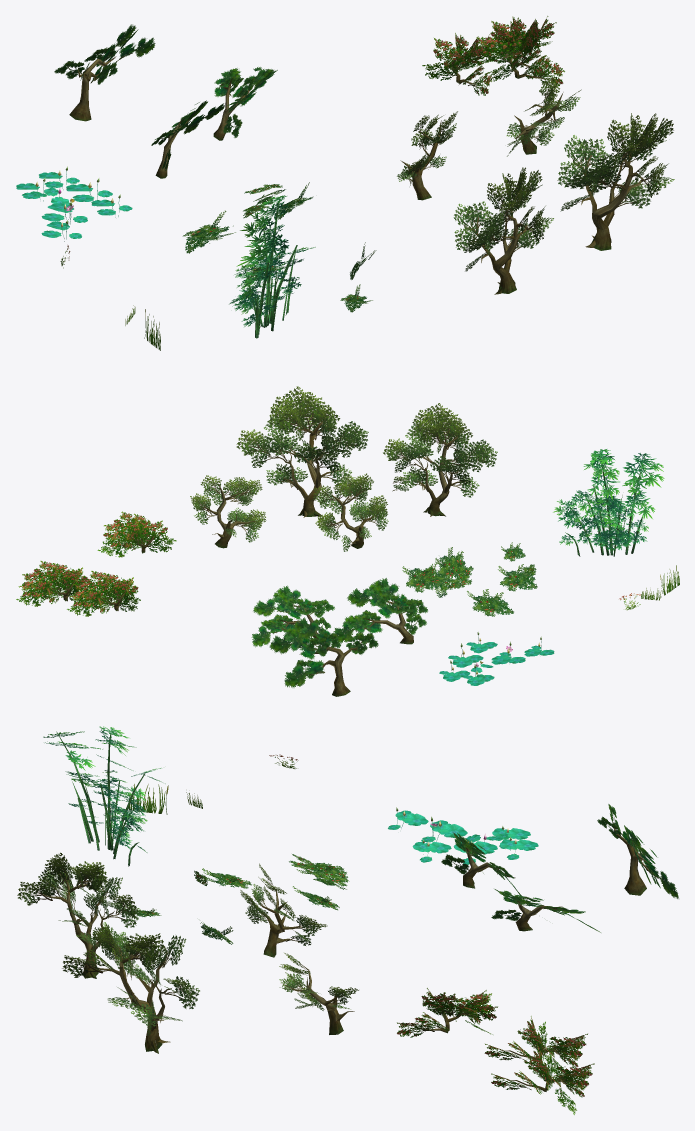
The model's file is zhi_wu_001_TL.FBX.
The picture shows the model from 3 angles, top to bottom: view 1: azimuth 30°, elevation 25°; view 2: azimuth 150°, elevation 25°; view 3: azimuth 270°, elevation 25°; orthographic projection. The views are drawn at different scales.
Visible parts, largest first — view 1: lv_shu_001_a, lv_shu_001_b, zhu_zi_001, guan_mu_001_a, guan_mu_001_b, objObject060, song_shu_001_c, lv_shu_d, lv_shu_c, song_shu_001_a, song_shu_001_b, guan_mu_002_c (+1 smaller); view 2: lv_shu_001_a, lv_shu_001_b, zhu_zi_001, guan_mu_001_a, song_shu_001_c, lv_shu_c, song_shu_001_b, lv_shu_d, song_shu_001_a, guan_mu_001_b, objObject060, guan_mu_002_c (+2 smaller); view 3: lv_shu_001_a, lv_shu_001_b, zhu_zi_001, guan_mu_001_a, objObject060, lv_shu_c, guan_mu_001_b, song_shu_001_c, lv_shu_d, song_shu_001_b, song_shu_001_a, guan_mu_002_c.
Boxes of the visible parts, x1,y1,x2,y2 form: lv_shu_001_a: (557, 113, 674, 250); lv_shu_001_b: (453, 167, 553, 294); zhu_zi_001: (229, 195, 315, 338); guan_mu_001_a: (422, 16, 556, 95); guan_mu_001_b: (476, 21, 564, 85); objObject060: (16, 166, 132, 241); song_shu_001_c: (54, 24, 155, 121); lv_shu_d: (506, 76, 581, 156); lv_shu_c: (397, 111, 457, 200); song_shu_001_a: (213, 67, 277, 140); song_shu_001_b: (151, 100, 224, 178); guan_mu_002_c: (243, 182, 313, 219); lv_shu_001_a: (236, 386, 368, 517); lv_shu_001_b: (383, 403, 497, 516); zhu_zi_001: (553, 449, 664, 556); guan_mu_001_a: (16, 561, 140, 616); song_shu_001_c: (269, 617, 378, 696); lv_shu_c: (313, 473, 388, 551); song_shu_001_b: (333, 578, 427, 644); lv_shu_d: (190, 475, 266, 548); song_shu_001_a: (251, 585, 334, 647); guan_mu_001_b: (97, 511, 176, 557); objObject060: (439, 632, 554, 685); guan_mu_002_c: (402, 554, 473, 597); lv_shu_001_a: (62, 922, 199, 1053); lv_shu_001_b: (17, 852, 140, 978); zhu_zi_001: (43, 726, 165, 866); guan_mu_001_a: (484, 1016, 594, 1114); objObject060: (388, 807, 538, 864); lv_shu_c: (240, 863, 327, 957); guan_mu_001_b: (397, 988, 497, 1037); song_shu_001_c: (597, 804, 678, 898); lv_shu_d: (279, 953, 358, 1034); song_shu_001_b: (441, 832, 529, 906); song_shu_001_a: (491, 889, 600, 932); guan_mu_002_c: (289, 854, 349, 910).
Size of the model in its own units: 38.95 by 9.14 by 34.99.
Materials: 1 (1 with a texture image).
